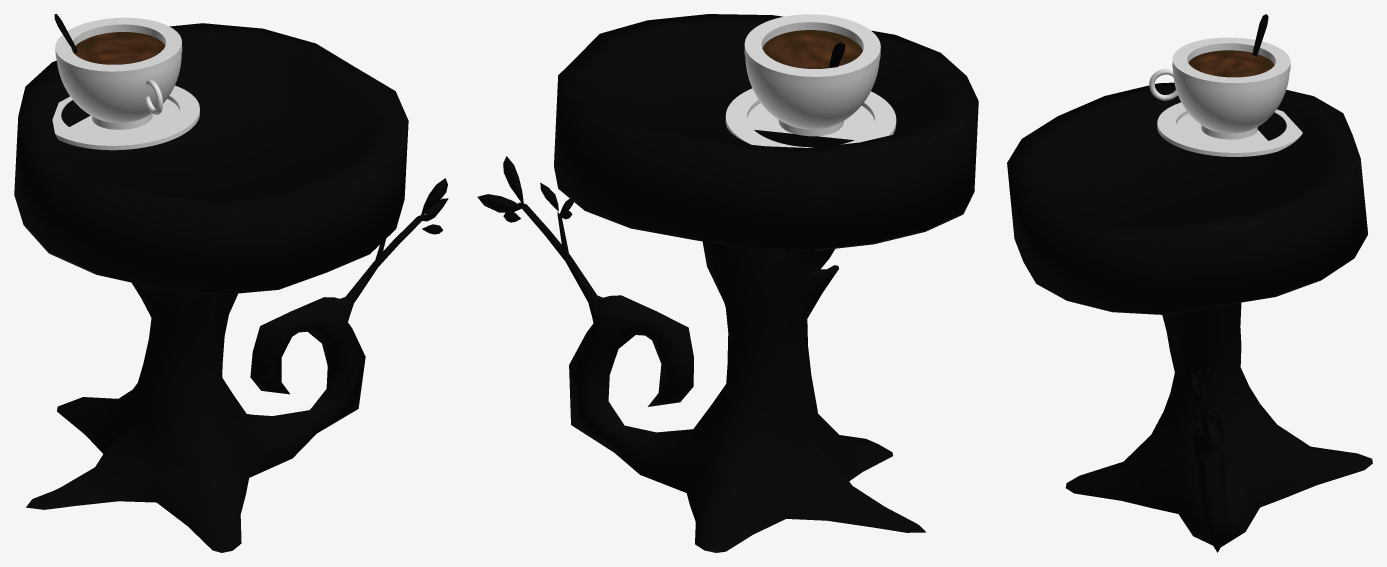
File: table1.fbx
3 renders of one model, left to right at view 1: azimuth 30°, elevation 25°; view 2: azimuth 150°, elevation 25°; view 3: azimuth 270°, elevation 25°, orthographic. The views are drawn at different scales.
Parts seen in each view (by area): view 1: node_id30, node_id46, node_id42, node_id56, node_id54; view 2: node_id30, node_id46, node_id42, node_id56, node_id54; view 3: node_id30, node_id46, node_id42, node_id56, node_id54.
Part boxes in pixels (box(x1,y1,x2,y2)): node_id30: box(14, 23, 448, 552); node_id46: box(56, 32, 181, 122); node_id42: box(55, 17, 182, 78); node_id56: box(52, 85, 199, 150); node_id54: box(69, 99, 179, 137); node_id30: box(477, 14, 978, 552); node_id46: box(745, 30, 879, 129); node_id42: box(744, 14, 880, 84); node_id56: box(725, 88, 896, 147); node_id54: box(747, 103, 874, 139); node_id30: box(1007, 82, 1372, 552); node_id46: box(1173, 50, 1289, 133); node_id42: box(1172, 37, 1290, 90); node_id56: box(1157, 102, 1302, 156); node_id54: box(1176, 114, 1267, 145).
Bounding box in the file's own units: 0.2853 × 0.3037 × 0.2278.
11 materials, 7 textured.
